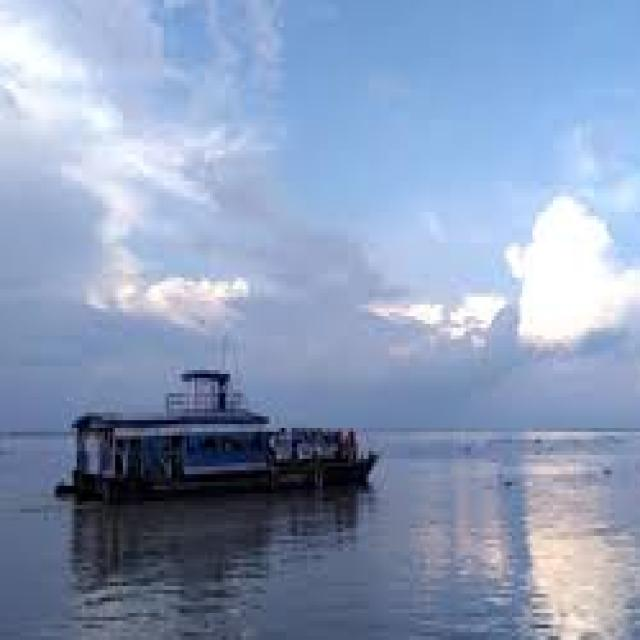fishing boat: (67, 360, 380, 504)
